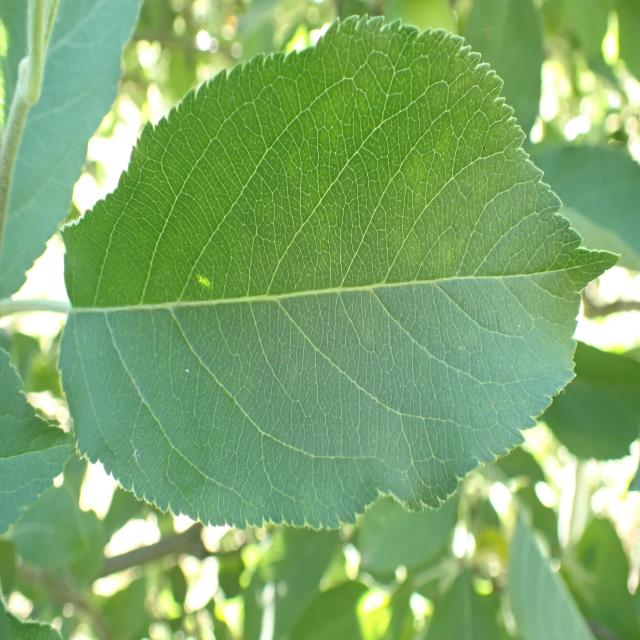healthy: (57, 15, 621, 530), (0, 0, 143, 302), (0, 345, 76, 534)
